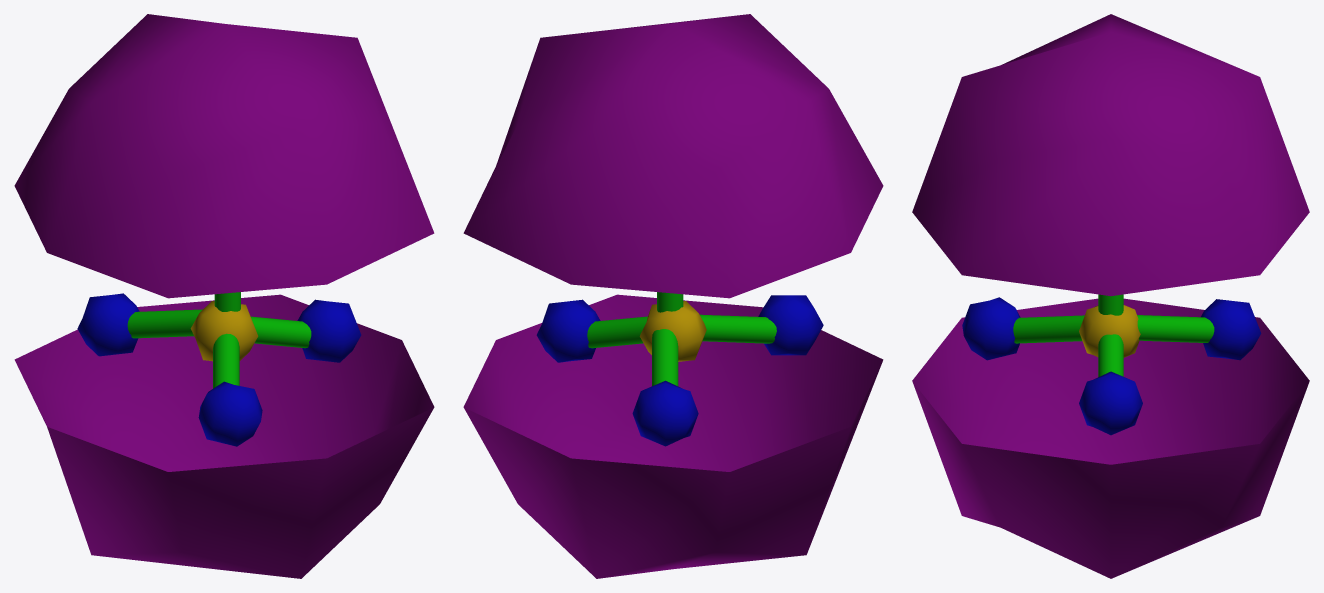
Rendered from SodiumBoroHidride.fbx.
3 renders of one model, left to right at view 1: azimuth 30°, elevation 25°; view 2: azimuth 150°, elevation 25°; view 3: azimuth 270°, elevation 25°, orthographic. The views are drawn at different scales.
Parts seen in each view (by area): view 1: polySurface11, polySurface5; view 2: polySurface11, polySurface5; view 3: polySurface11, polySurface5.
Boxes of the visible parts, x1=… form: polySurface11: x1=14, y1=292, x2=434, y2=578; polySurface5: x1=14, y1=14, x2=434, y2=298; polySurface11: x1=463, y1=292, x2=883, y2=578; polySurface5: x1=463, y1=14, x2=883, y2=298; polySurface11: x1=912, y1=294, x2=1309, y2=578; polySurface5: x1=912, y1=14, x2=1309, y2=296.
Bounding box in the file's own units: 31 × 45.5 × 31.
